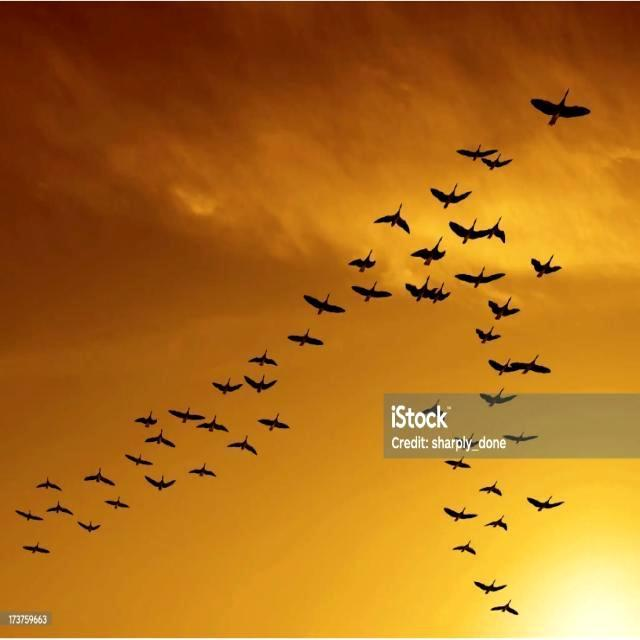bird: (528, 88, 592, 128), (526, 251, 570, 294), (428, 176, 476, 214), (368, 198, 414, 234), (304, 284, 346, 323), (348, 279, 394, 313), (454, 260, 506, 290), (256, 406, 300, 434), (518, 351, 559, 381), (224, 435, 261, 468), (455, 131, 496, 159), (410, 235, 448, 264), (348, 242, 381, 275), (400, 272, 432, 306), (528, 493, 568, 519), (486, 294, 523, 322), (442, 502, 479, 530), (120, 446, 154, 476), (80, 464, 116, 492), (474, 388, 518, 410), (468, 324, 508, 348), (450, 218, 481, 248), (452, 529, 479, 563), (488, 595, 522, 622), (15, 504, 45, 534), (18, 540, 54, 565), (482, 214, 508, 248), (242, 372, 282, 394), (288, 329, 324, 352), (29, 474, 65, 497), (484, 355, 517, 380), (482, 154, 516, 178), (442, 453, 477, 476), (168, 402, 204, 424), (147, 427, 176, 454), (210, 376, 244, 399), (482, 512, 514, 536), (104, 494, 132, 520), (502, 428, 542, 446), (244, 350, 278, 370), (132, 408, 161, 431), (139, 474, 176, 492), (187, 463, 220, 483), (75, 516, 104, 538), (196, 418, 229, 437), (470, 578, 508, 594), (433, 279, 452, 310), (48, 500, 75, 519), (478, 481, 502, 498)
